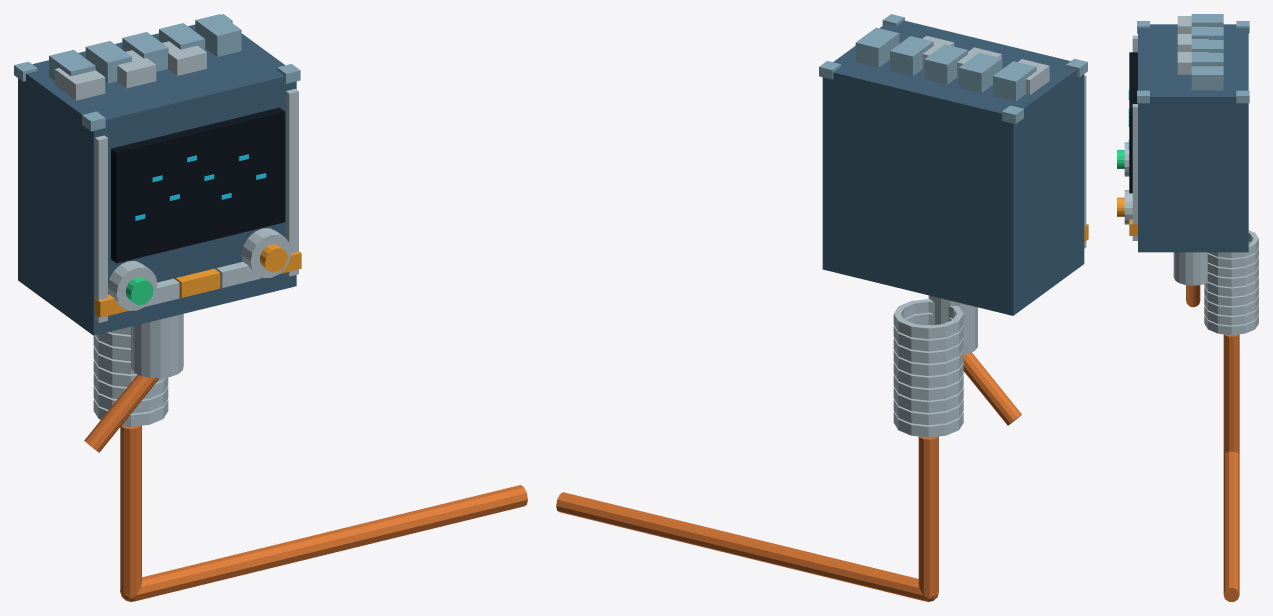
File: 32_L72_HeatedDeliveryLineSensor.fbx
3 views of the same model, side by side, from view 1: azimuth 30°, elevation 25°; view 2: azimuth 150°, elevation 25°; view 3: azimuth 270°, elevation 25° (orthographic). The views are drawn at different scales.
Parts seen in each view (by area): view 1: HeatedDeliveryLineSensor; view 2: HeatedDeliveryLineSensor; view 3: HeatedDeliveryLineSensor.
Boxes of the visible parts, <box> form: HeatedDeliveryLineSensor: <box>14,14,527,601</box>; HeatedDeliveryLineSensor: <box>556,14,1088,601</box>; HeatedDeliveryLineSensor: <box>1117,14,1258,601</box>.
Bounding box in the file's own units: 109 × 120 × 36.9.
